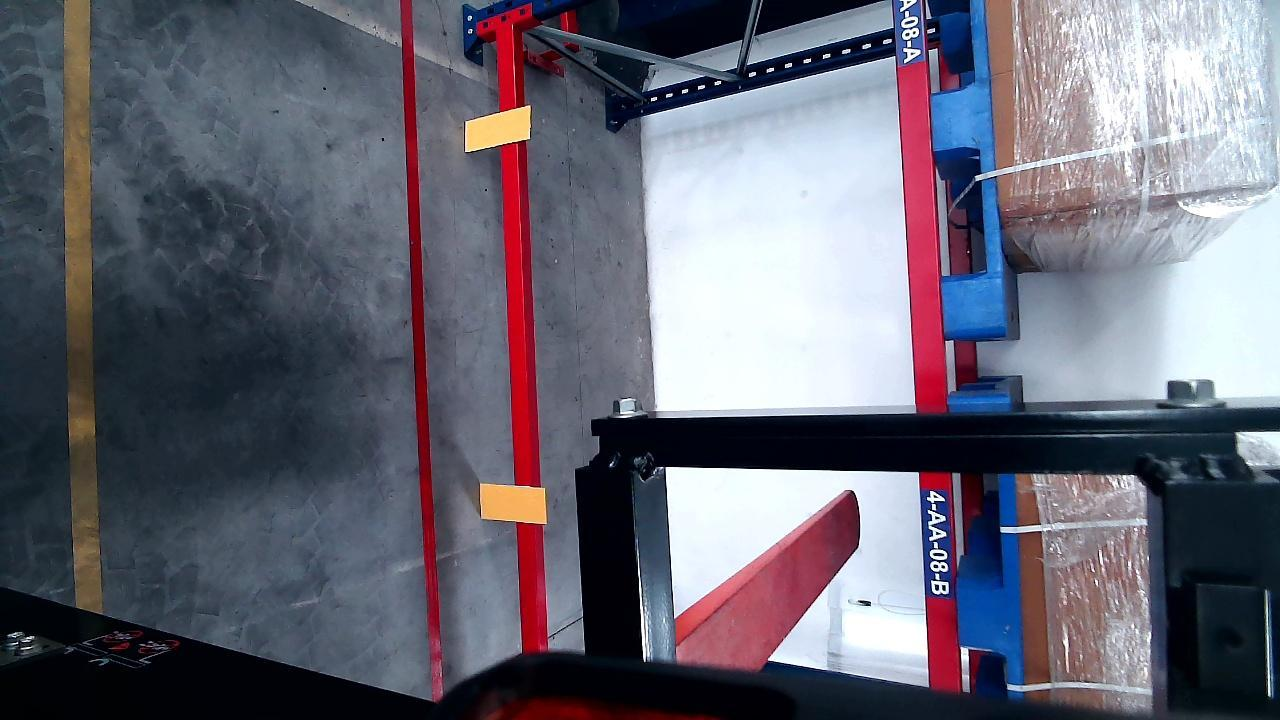red_line: (400, 0, 444, 704)
yellow_line: (63, 0, 103, 607)
